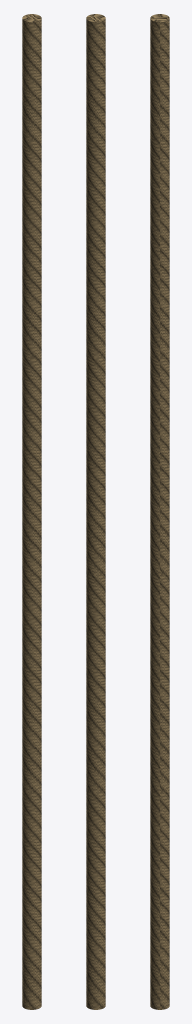
The model's file is Rope.FBX.
3 renders of one model, left to right at view 1: azimuth 30°, elevation 25°; view 2: azimuth 210°, elevation 25°; view 3: azimuth 270°, elevation 25°, orthographic.
Visible parts, largest first — view 1: Rope; view 2: Rope; view 3: Rope.
Boxes of the visible parts, bbox=[...] form: Rope: bbox=[22, 14, 41, 1009]; Rope: bbox=[86, 14, 105, 1009]; Rope: bbox=[150, 14, 169, 1009].
Size of the model in its own units: 7.48 by 420 by 7.37.
1 material, 1 textured.
